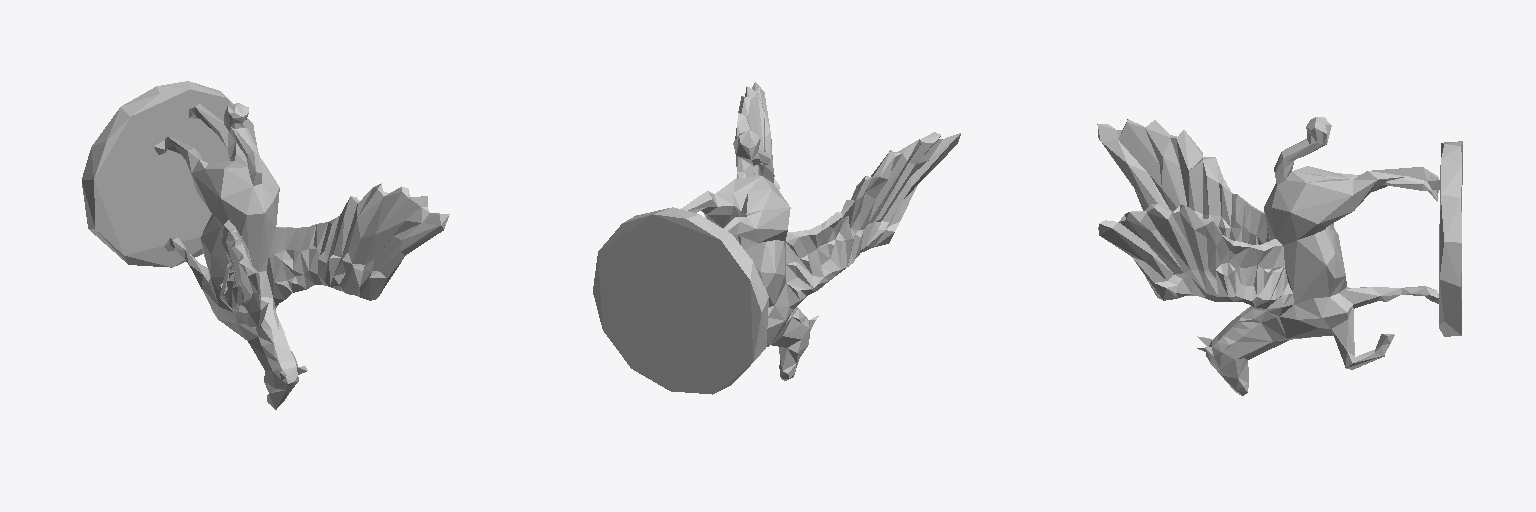
File: PegasusNew.obj
The picture shows the model from 3 angles: view 1: azimuth 30°, elevation 25°; view 2: azimuth 150°, elevation 25°; view 3: azimuth 270°, elevation 25°; orthographic projection.
Visible parts, largest first — view 1: 16799_Pegasus; view 2: 16799_Pegasus; view 3: 16799_Pegasus.
Part boxes in pixels (x1,y1,x2,y2): 16799_Pegasus: (82, 81, 449, 409); 16799_Pegasus: (593, 82, 960, 394); 16799_Pegasus: (1097, 117, 1462, 395).
Size of the model in its own units: 4.89 by 6.31 by 7.48.